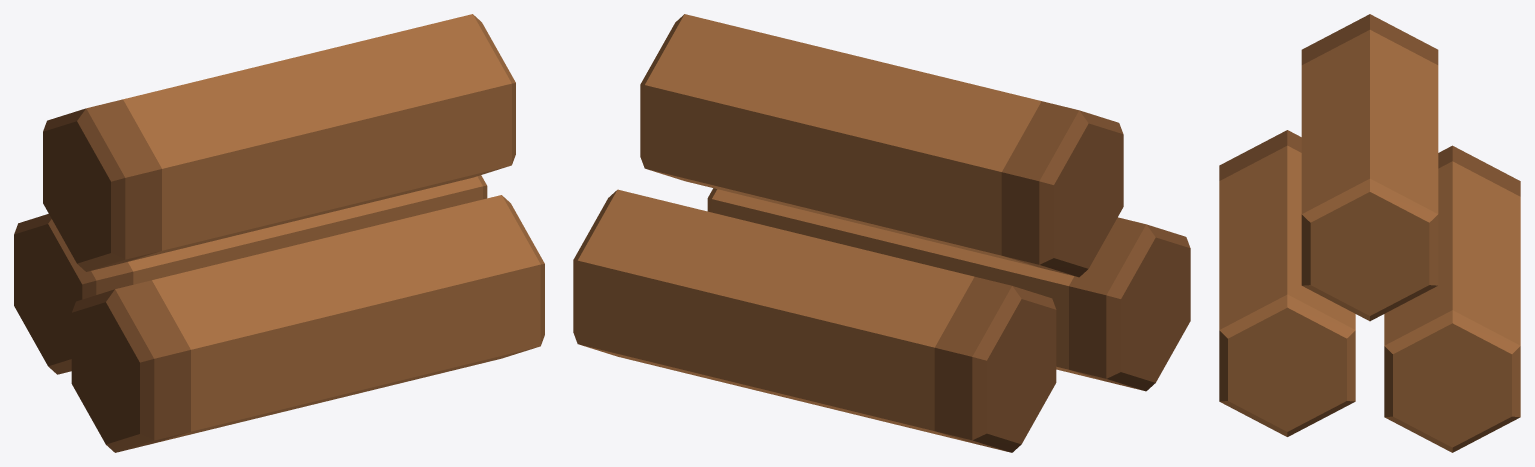
The model's file is item_shell_incendiary_b.obj.
3 renders of one model, left to right at view 1: azimuth 30°, elevation 25°; view 2: azimuth 150°, elevation 25°; view 3: azimuth 270°, elevation 25°, orthographic. The views are drawn at different scales.
Size of the model in its own units: 0.5712 by 0.3775 by 0.387.
